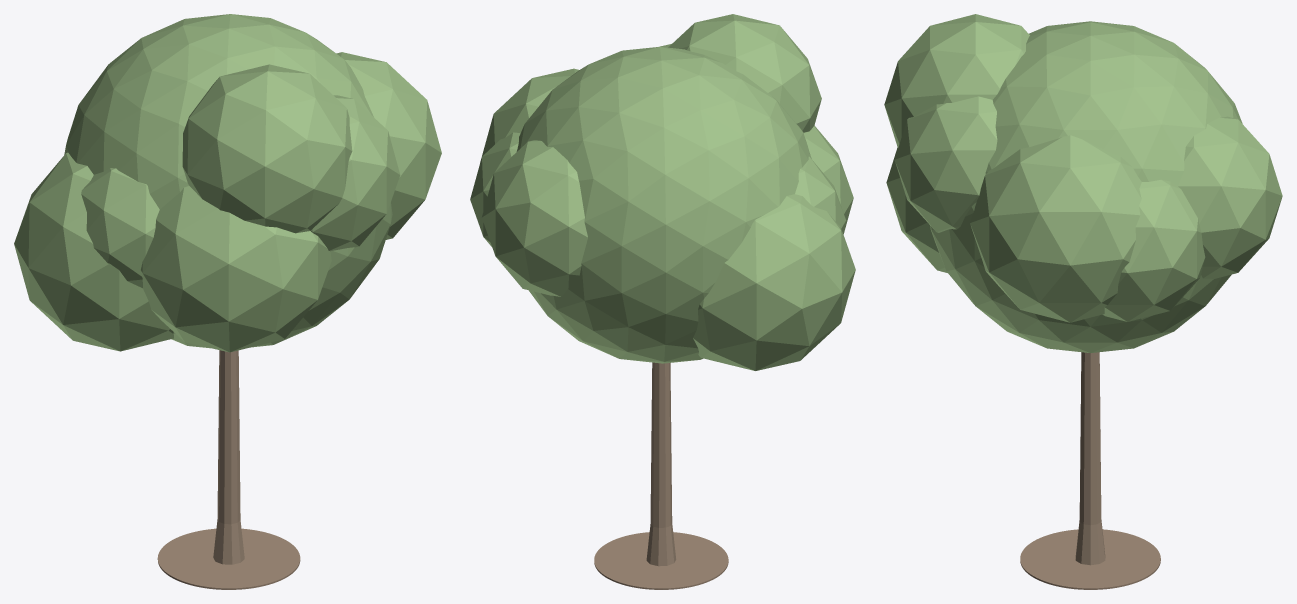
The model's file is tree.glb.
The picture shows the model from 3 angles, left to right: view 1: azimuth 30°, elevation 25°; view 2: azimuth 150°, elevation 25°; view 3: azimuth 270°, elevation 25°; orthographic projection. The views are drawn at different scales.
Parts seen in each view (by area): view 1: tree_leaf, tree_mulch, tree_bark; view 2: tree_leaf, tree_mulch, tree_bark; view 3: tree_leaf, tree_mulch, tree_bark.
Boxes of the visible parts, bbox=[...] form: tree_leaf: bbox=[14, 14, 441, 352]; tree_mulch: bbox=[157, 528, 300, 589]; tree_bark: bbox=[213, 350, 244, 564]; tree_leaf: bbox=[470, 14, 855, 370]; tree_mulch: bbox=[594, 532, 728, 589]; tree_bark: bbox=[646, 362, 676, 566]; tree_leaf: bbox=[884, 14, 1282, 353]; tree_mulch: bbox=[1020, 529, 1160, 589]; tree_bark: bbox=[1075, 352, 1105, 565].
Bounding box in the file's own units: 4.99 × 6.64 × 4.53.
